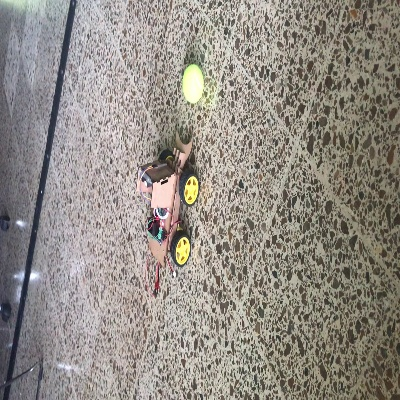Ball: (182, 65, 204, 103)
Robot: (136, 131, 200, 273)
